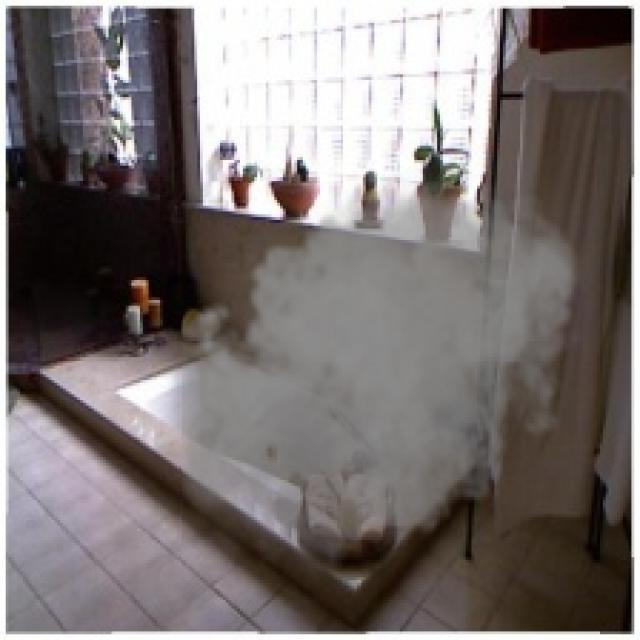smoke: (165, 166, 586, 588)
